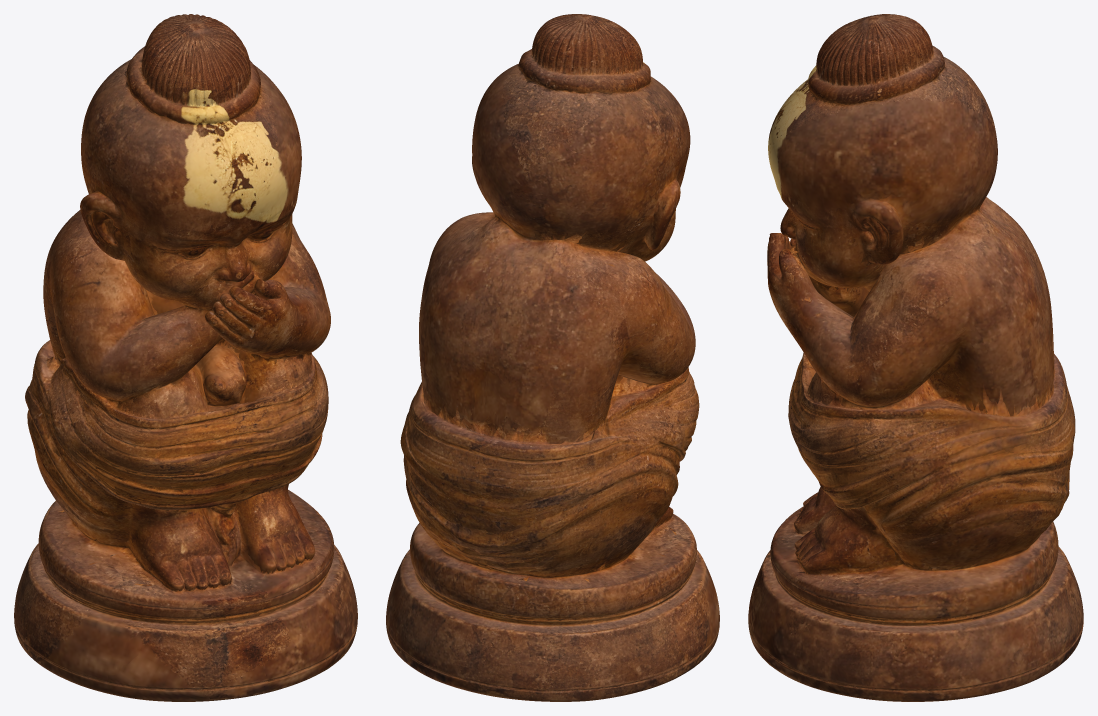
Rendered from kumanshy.glb.
3 views of the same model, side by side, from view 1: azimuth 30°, elevation 25°; view 2: azimuth 150°, elevation 25°; view 3: azimuth 270°, elevation 25° (orthographic). The views are drawn at different scales.
Parts seen in each view (by area): view 1: kumanshy_near, kumanshy_far, kumanshy_dist; view 2: kumanshy_near, kumanshy_far, kumanshy_dist; view 3: kumanshy_near, kumanshy_far, kumanshy_dist.
Boxes of the visible parts, box(x1,y1,x2,y2) form: kumanshy_near: box(14, 14, 357, 701); kumanshy_far: box(14, 14, 357, 701); kumanshy_dist: box(26, 15, 354, 691); kumanshy_near: box(386, 14, 719, 701); kumanshy_far: box(386, 14, 719, 701); kumanshy_dist: box(387, 14, 718, 692); kumanshy_near: box(748, 14, 1083, 701); kumanshy_far: box(748, 14, 1083, 701); kumanshy_dist: box(753, 14, 1076, 691).
Size of the model in its own units: 0.4963 by 1 by 0.4967.
1 material, 1 textured.
